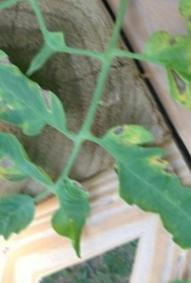Tomato Early blight leaf: (78, 109, 191, 222), (23, 171, 121, 270), (128, 18, 191, 141), (0, 73, 80, 160), (0, 119, 55, 202)
Tomato leaf: (0, 181, 45, 254)
